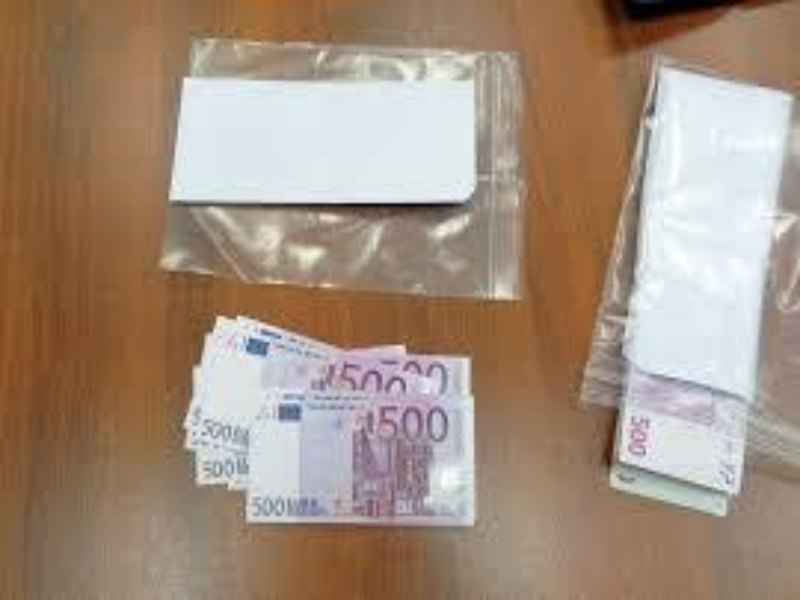cash: (181, 315, 475, 525), (609, 362, 745, 516)
